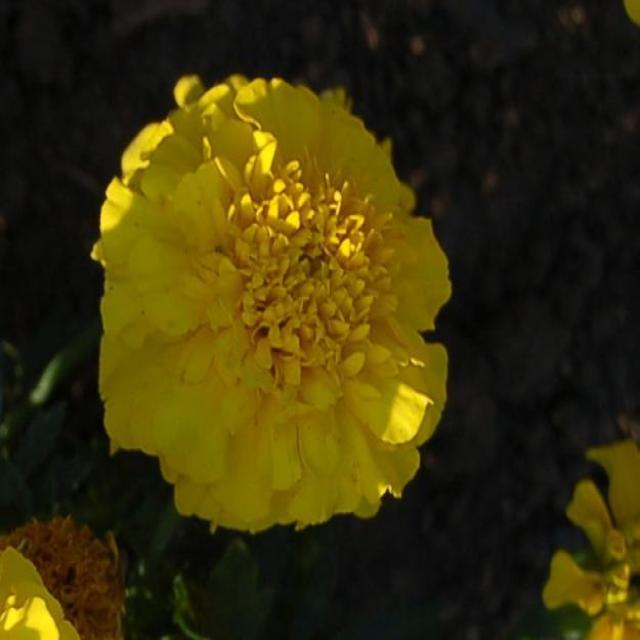marigold: (74, 21, 472, 578)
